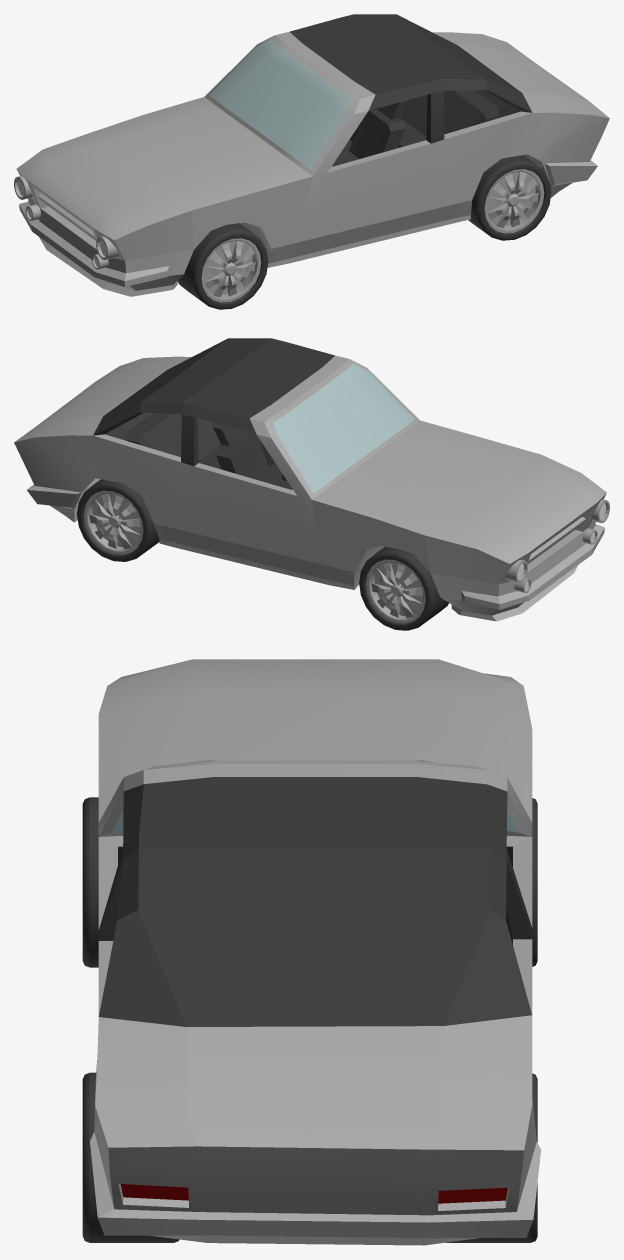
Rendered from Car_003.fbx.
The picture shows the model from 3 angles, top to bottom: view 1: azimuth 30°, elevation 25°; view 2: azimuth 150°, elevation 25°; view 3: azimuth 270°, elevation 25°; orthographic projection. The views are drawn at different scales.
Parts seen in each view (by area): view 1: CarBody, Wiel_FrontLeft2, Wiel_FrontLeft3; view 2: CarBody, Wiel_FrontRight2, Wiel_FrontRight3; view 3: CarBody, Wiel_FrontLeft2, Wiel_FrontLeft3, Wiel_FrontRight2, Wiel_FrontRight3.
Boxes of the visible parts, bbox=[...] form: CarBody: bbox=[14, 14, 609, 296]; Wiel_FrontLeft2: bbox=[177, 223, 268, 309]; Wiel_FrontLeft3: bbox=[468, 155, 551, 240]; CarBody: bbox=[14, 338, 609, 621]; Wiel_FrontRight2: bbox=[359, 546, 448, 630]; Wiel_FrontRight3: bbox=[77, 479, 159, 561]; CarBody: bbox=[90, 659, 541, 1245]; Wiel_FrontLeft2: bbox=[82, 797, 98, 967]; Wiel_FrontLeft3: bbox=[82, 1072, 179, 1242]; Wiel_FrontRight2: bbox=[532, 798, 537, 966]; Wiel_FrontRight3: bbox=[446, 1073, 537, 1242].
Bounding box in the file's own units: 1.4 × 0.4496 × 0.5603.
